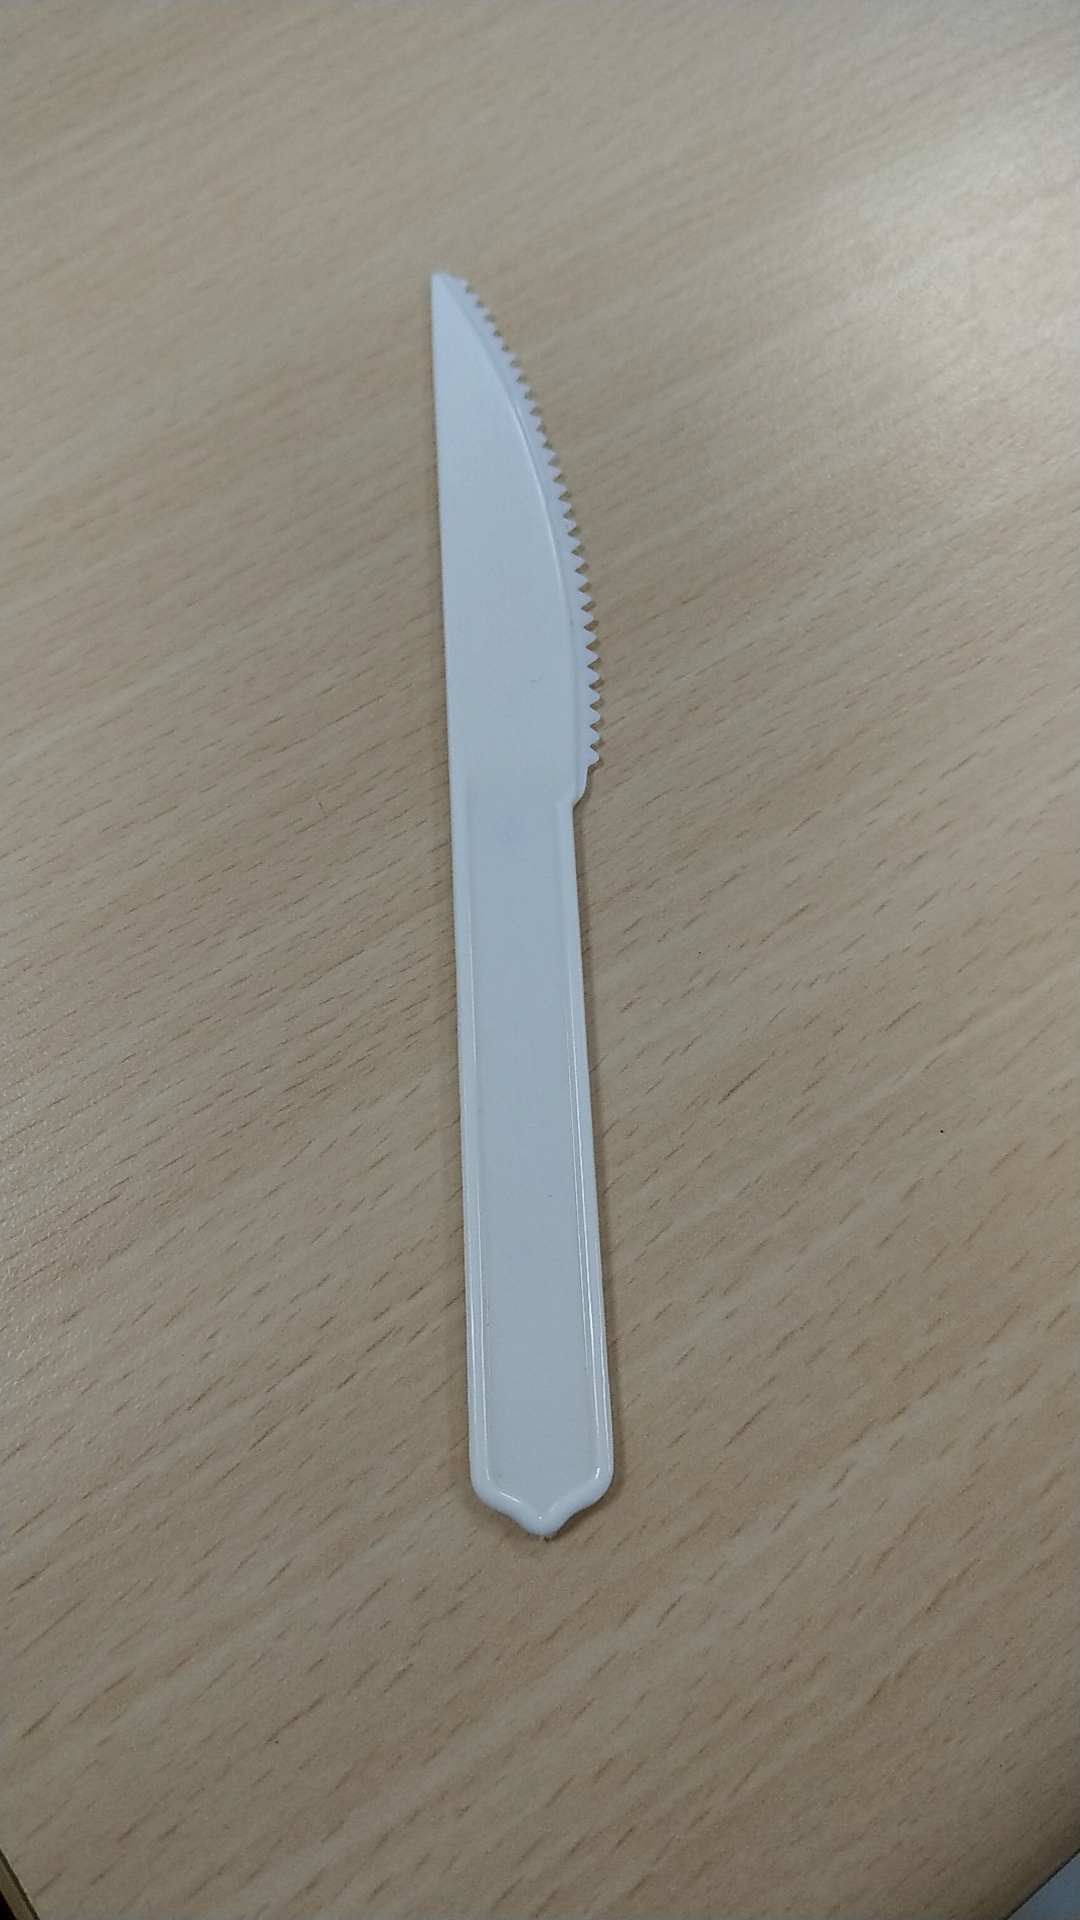knife: (396, 247, 659, 1564)
